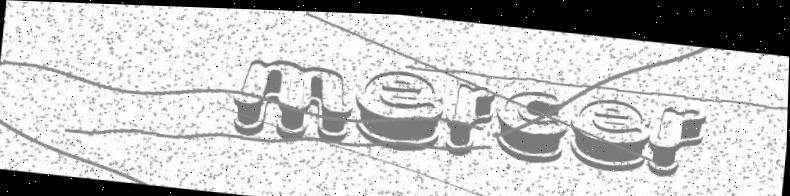c: (493, 80, 571, 163)
e: (349, 61, 449, 153), (565, 88, 655, 169)
m: (229, 51, 356, 144)
r: (642, 92, 708, 178), (443, 76, 497, 156)
